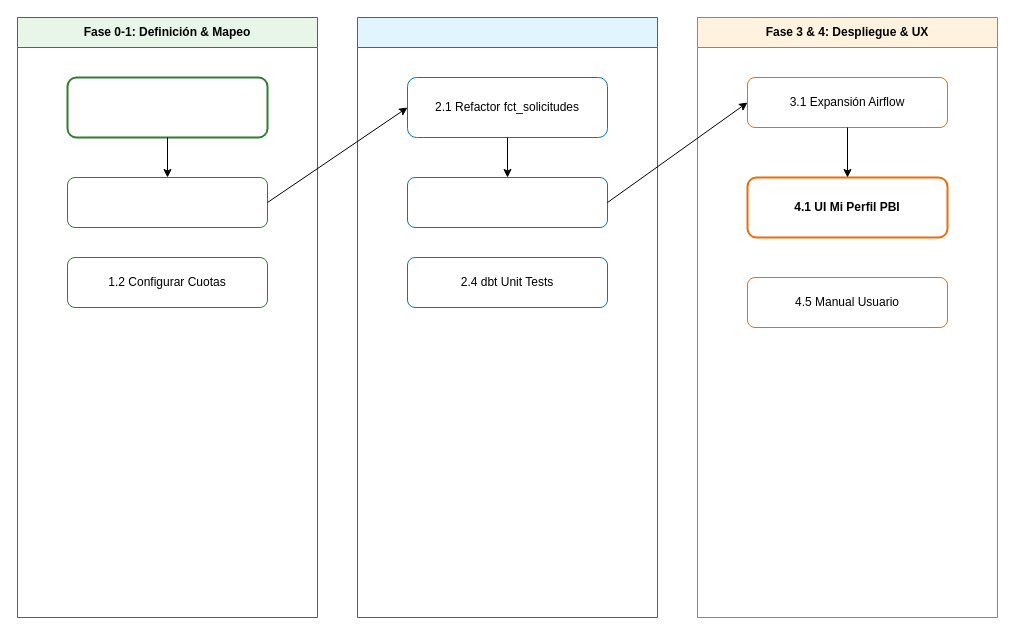
This 1015x635 diagram has some shape labels left out. The box of each missing label's shape, as (x1, y1, x2, y2) in pixels:
0.1 Reunión Alejandro (Definición Roles): (66, 76, 268, 138)
1.1 Limpieza Nombres: (66, 176, 268, 228)
2.2 Agregaciones Diarias: (406, 176, 608, 228)
Fase 2: Lógica dbt: (356, 16, 658, 618)
